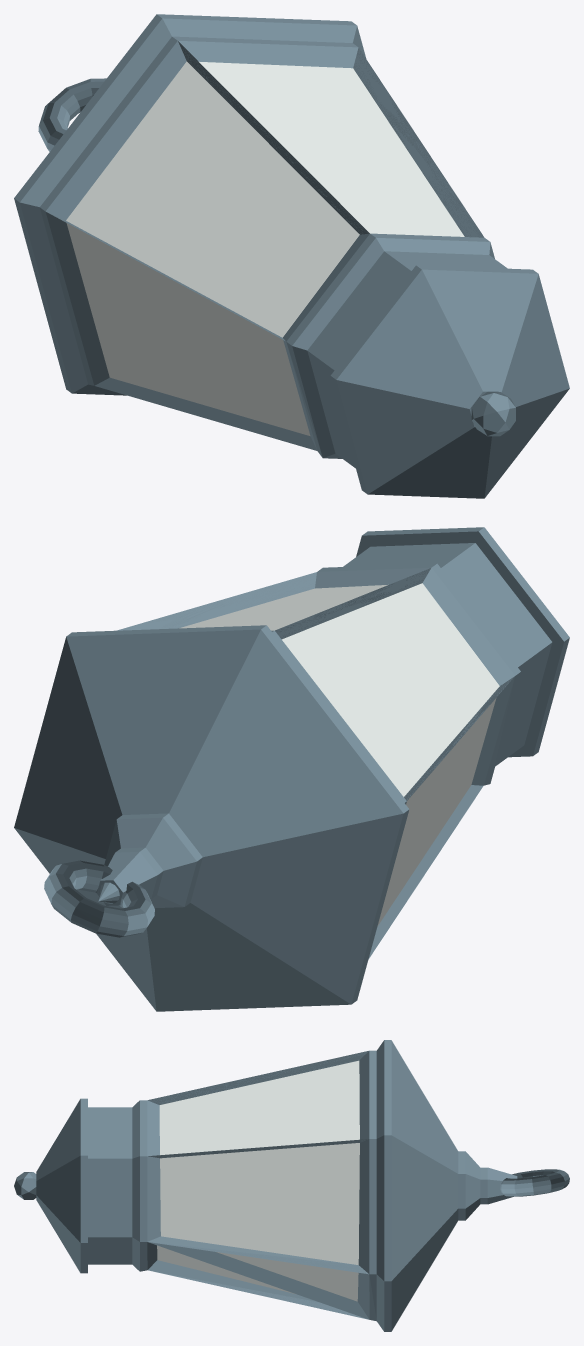
The model's file is Hidden_Lantern.fbx.
3 views of the same model, one above another, from view 1: azimuth 30°, elevation 25°; view 2: azimuth 150°, elevation 25°; view 3: azimuth 270°, elevation 25° (orthographic). The views are drawn at different scales.
Parts seen in each view (by area): view 1: imagetostl_mesh0, imagetostl_mesh1; view 2: imagetostl_mesh0, imagetostl_mesh1; view 3: imagetostl_mesh0, imagetostl_mesh1.
Boxes of the visible parts, box(x1,y1,x2,y2) form: imagetostl_mesh0: box(14, 14, 569, 498); imagetostl_mesh1: box(66, 61, 464, 435); imagetostl_mesh0: box(14, 527, 569, 1011); imagetostl_mesh1: box(179, 583, 499, 926); imagetostl_mesh0: box(14, 1040, 569, 1331); imagetostl_mesh1: box(157, 1060, 359, 1301).
Size of the model in its own units: 38.67 by 38.67 by 75.1.
